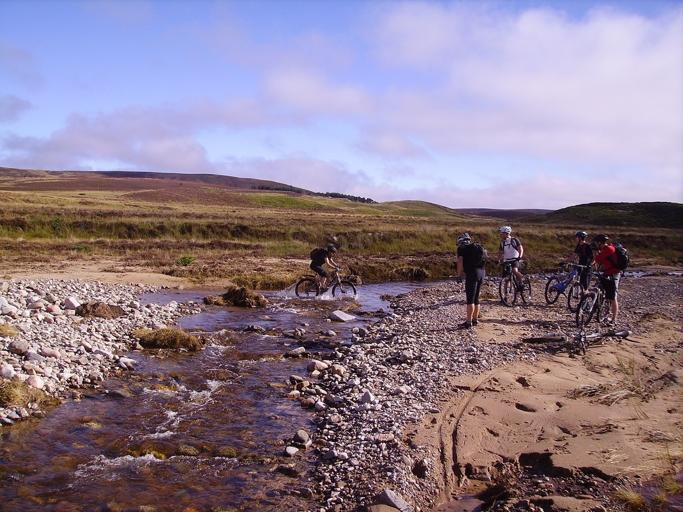non-vehicle: (295, 262, 358, 303), (544, 260, 589, 313), (575, 272, 611, 326), (497, 257, 530, 306)
